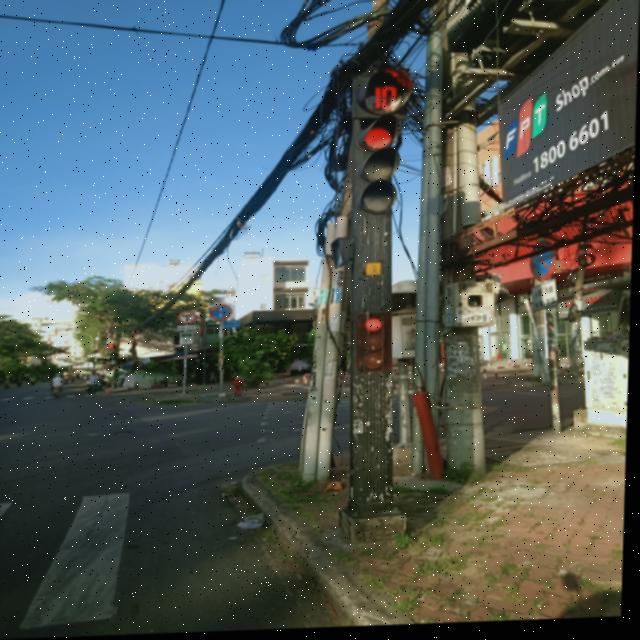Red: (349, 116, 406, 227), (347, 312, 397, 378)
